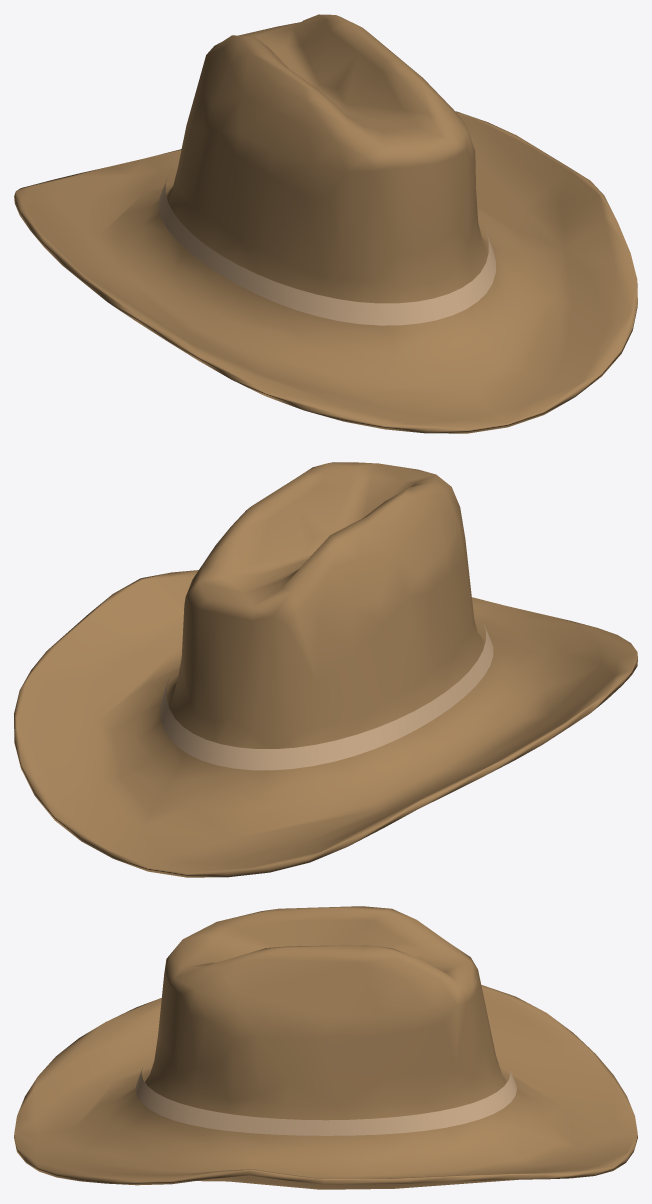
The model's file is cowboy-hat.glb.
3 renders of one model, top to bottom at view 1: azimuth 30°, elevation 25°; view 2: azimuth 150°, elevation 25°; view 3: azimuth 270°, elevation 25°, orthographic. The views are drawn at different scales.
Visible parts, largest first — view 1: Hat, ring; view 2: Hat, ring; view 3: Hat, ring.
Part boxes in pixels (box(x1,y1,x2,y2)): Hat: box(14, 14, 637, 433); ring: box(158, 178, 495, 325); Hat: box(14, 462, 637, 877); ring: box(160, 623, 493, 770); Hat: box(14, 906, 637, 1189); ring: box(135, 1067, 516, 1135).
Bounding box in the file's own units: 1.5 × 0.7257 × 1.94.
